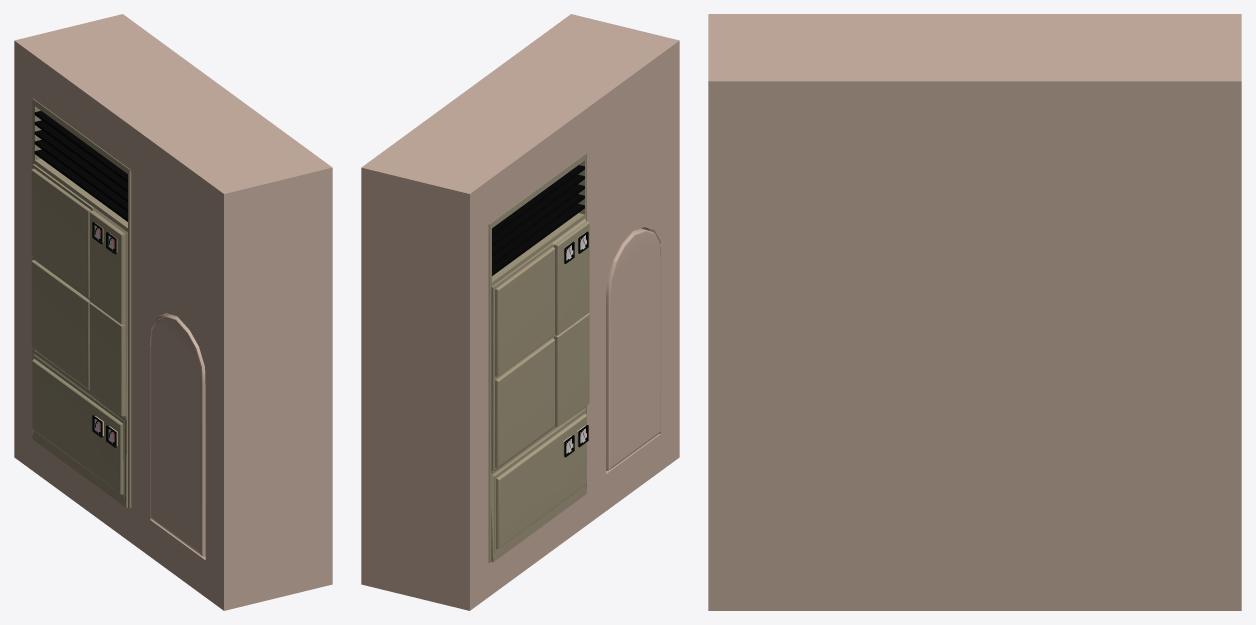
Rendered from cooler.fbx.
The picture shows the model from 3 angles, left to right: view 1: azimuth 30°, elevation 25°; view 2: azimuth 150°, elevation 25°; view 3: azimuth 270°, elevation 25°; orthographic projection. The views are drawn at different scales.
Parts seen in each view (by area): view 1: polySurface30501, polySurface30658; view 2: polySurface30501, polySurface30658; view 3: polySurface30501.
Boxes of the visible parts, box(x1,y1,x2,y2) form: polySurface30501: box(14, 14, 332, 610); polySurface30658: box(31, 98, 131, 508); polySurface30501: box(361, 14, 679, 610); polySurface30658: box(488, 153, 589, 563); polySurface30501: box(708, 14, 1241, 610).
Size of the model in its own units: 0.701 by 2.37 by 2.16.
